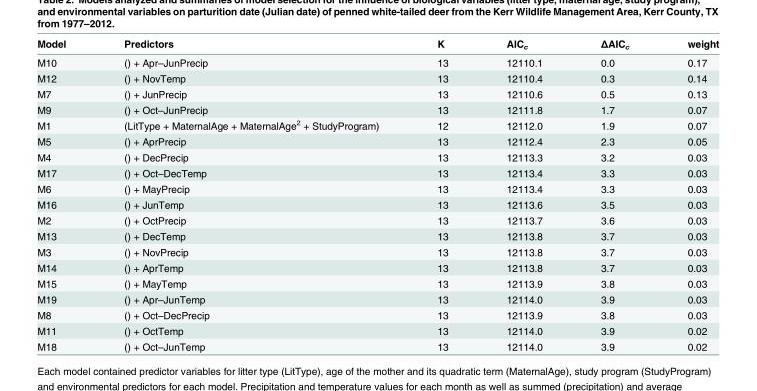table: (36, 37, 718, 351)
table column: (94, 37, 407, 351), (476, 37, 570, 351), (570, 37, 657, 351), (407, 37, 476, 351), (657, 37, 718, 351), (36, 37, 94, 351)
table column header: (36, 37, 718, 53)
table row: (36, 53, 718, 70), (36, 116, 718, 133), (36, 37, 718, 53), (36, 85, 718, 101), (36, 148, 718, 164), (36, 164, 718, 180), (36, 180, 718, 196), (36, 196, 718, 212), (36, 227, 718, 243), (36, 243, 718, 259), (36, 259, 718, 275), (36, 290, 718, 306), (36, 306, 718, 322), (36, 322, 718, 338), (36, 70, 718, 85), (36, 101, 718, 116), (36, 133, 718, 148), (36, 212, 718, 227), (36, 275, 718, 290), (36, 338, 718, 351)
